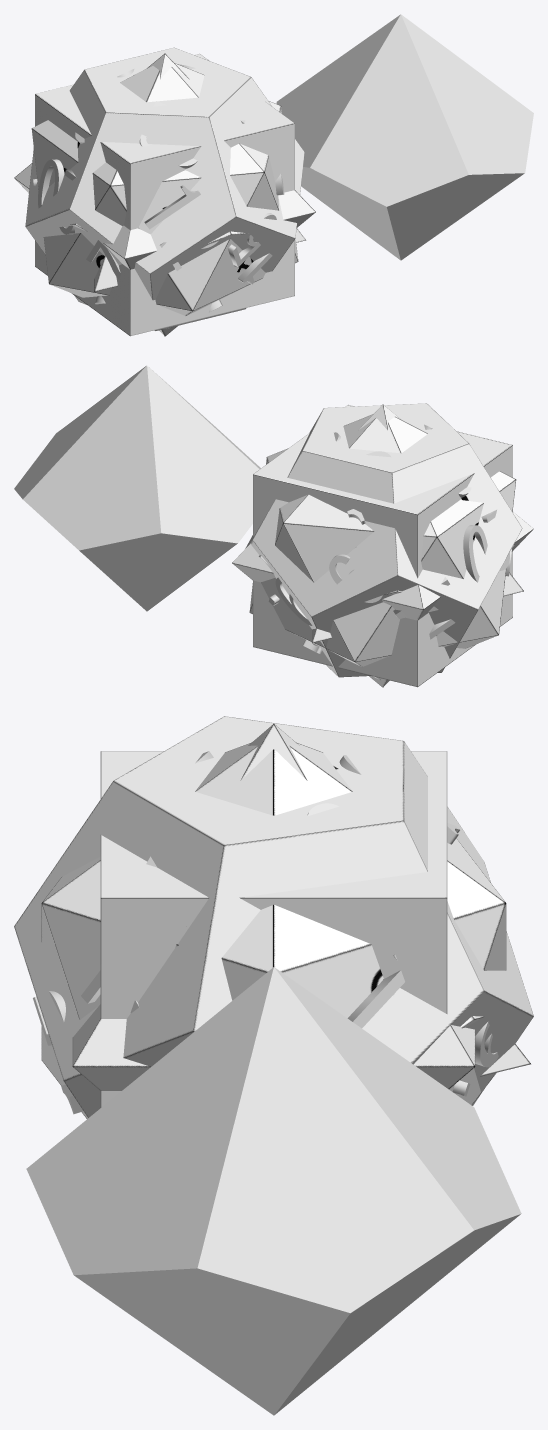
File: Dice20variant.gltf
The picture shows the model from 3 angles, top to bottom: view 1: azimuth 30°, elevation 25°; view 2: azimuth 150°, elevation 25°; view 3: azimuth 270°, elevation 25°; orthographic projection. The views are drawn at different scales.
Visible parts, largest first — view 1: d10, d12, d20, d6, d8, nr15, nr20, nr12, d4, nr2; view 2: d10, d12, d20, d6, d8, nr20, nr9, d4, nr14, nr6; view 3: d10, d12, d20, d6, d8, D20 variant, nr19, nr9.
Boxes of the visible parts, x1=… form: d10: x1=276, y1=14, x2=533, y2=260; d12: x1=25, y1=47, x2=304, y2=330; d20: x1=31, y1=63, x2=298, y2=329; d6: x1=35, y1=54, x2=294, y2=336; d8: x1=14, y1=53, x2=315, y2=336; nr15: x1=227, y1=213, x2=276, y2=284; nr20: x1=38, y1=159, x2=75, y2=234; nr12: x1=144, y1=184, x2=218, y2=270; d4: x1=94, y1=228, x2=305, y2=291; nr2: x1=86, y1=240, x2=120, y2=279; d10: x1=14, y1=365, x2=260, y2=611; d12: x1=245, y1=403, x2=522, y2=677; d20: x1=249, y1=414, x2=516, y2=680; d6: x1=253, y1=405, x2=512, y2=687; d8: x1=232, y1=404, x2=533, y2=687; nr20: x1=463, y1=510, x2=509, y2=582; nr9: x1=268, y1=577, x2=312, y2=625; d4: x1=312, y1=572, x2=523, y2=642; nr14: x1=393, y1=577, x2=455, y2=639; nr6: x1=329, y1=554, x2=382, y2=602; d10: x1=26, y1=967, x2=521, y2=1415; d12: x1=14, y1=716, x2=533, y2=1117; d20: x1=41, y1=742, x2=506, y2=1118; d6: x1=100, y1=751, x2=447, y2=1107; d8: x1=72, y1=724, x2=475, y2=1090; D20 variant: x1=43, y1=903, x2=504, y2=1019; nr19: x1=347, y1=954, x2=404, y2=1028; nr9: x1=452, y1=1021, x2=498, y2=1096.
Size of the model in its own units: 3.95 by 2.3 by 2.1.
Materials: 7 (7 with a texture image).
